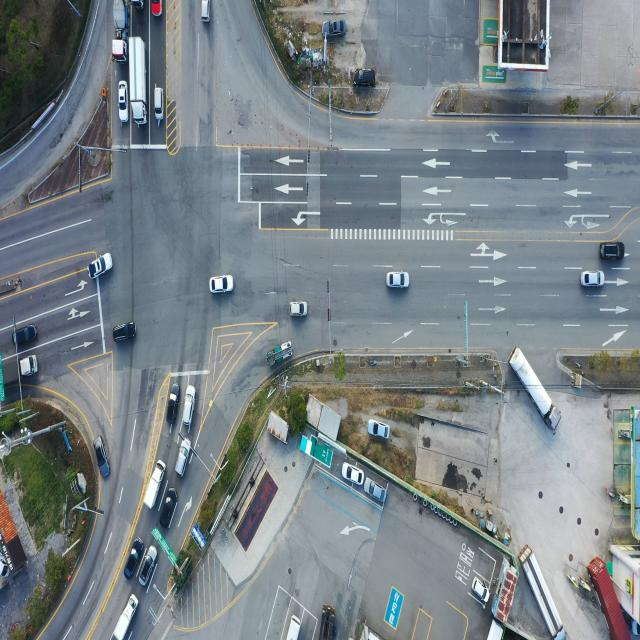car: (139, 546, 157, 588), (90, 252, 114, 280), (176, 438, 192, 478), (95, 434, 109, 478), (160, 491, 176, 529), (165, 386, 178, 432), (182, 384, 195, 426), (126, 544, 141, 580), (364, 480, 386, 504), (471, 578, 489, 607), (12, 327, 36, 348), (343, 462, 364, 486), (367, 420, 389, 441), (600, 242, 624, 261), (115, 326, 139, 345), (352, 68, 375, 87), (118, 81, 128, 123), (19, 355, 38, 377), (210, 276, 233, 294), (323, 20, 346, 38), (387, 272, 409, 290), (582, 272, 604, 288), (154, 87, 164, 121), (290, 302, 306, 318), (200, 0, 210, 23), (151, 0, 161, 16)
medium_truck: (512, 347, 562, 434), (522, 544, 566, 638), (130, 36, 150, 125), (112, 0, 127, 60), (321, 606, 338, 640)
small_bus: (282, 615, 302, 640)
small_truck: (115, 593, 139, 640), (144, 458, 166, 509), (268, 342, 294, 367)
